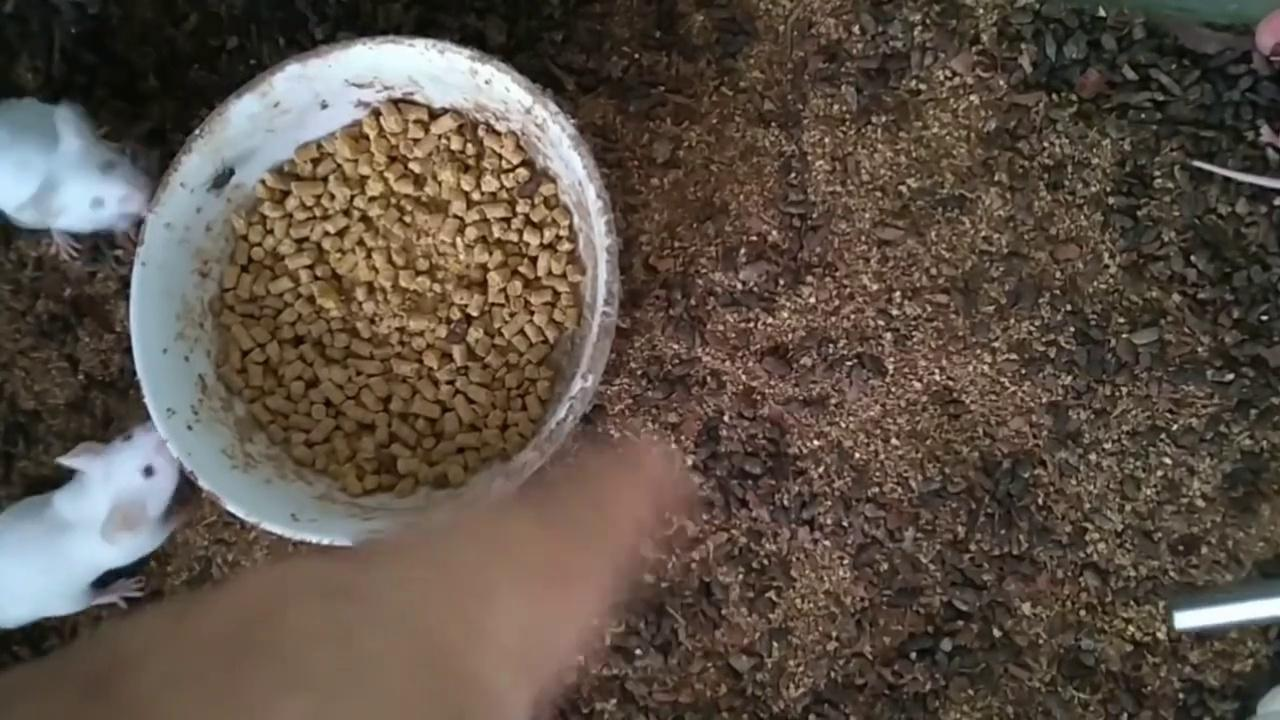rat: (0, 418, 204, 629), (0, 97, 158, 263)
